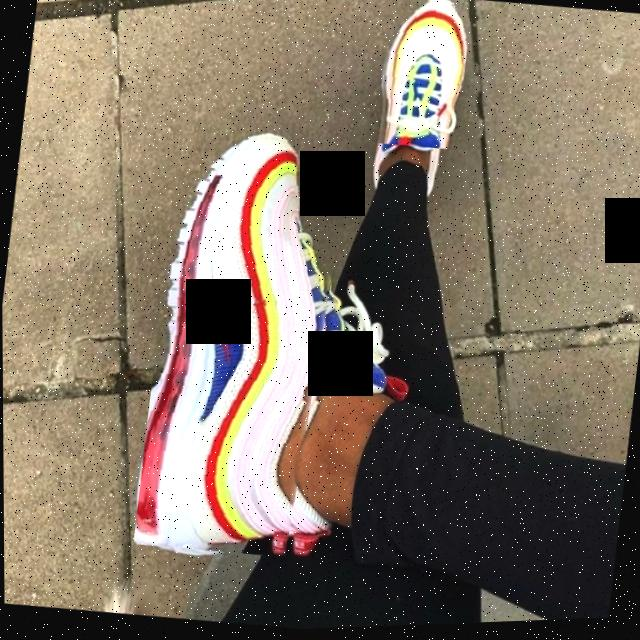shoe: (130, 127, 355, 566), (371, 0, 472, 155)
